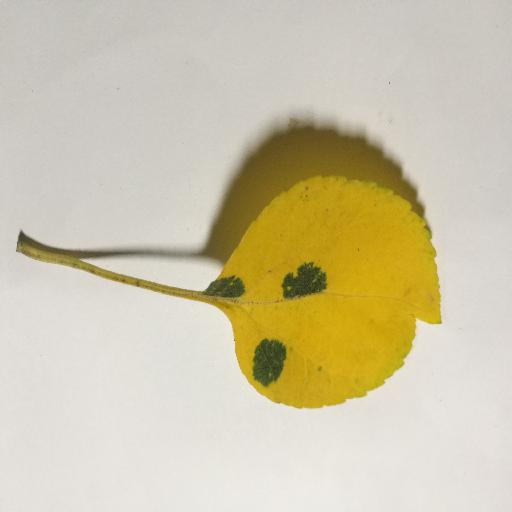Brown_Spot: (242, 338, 291, 382), (277, 262, 320, 296), (201, 278, 238, 301)
